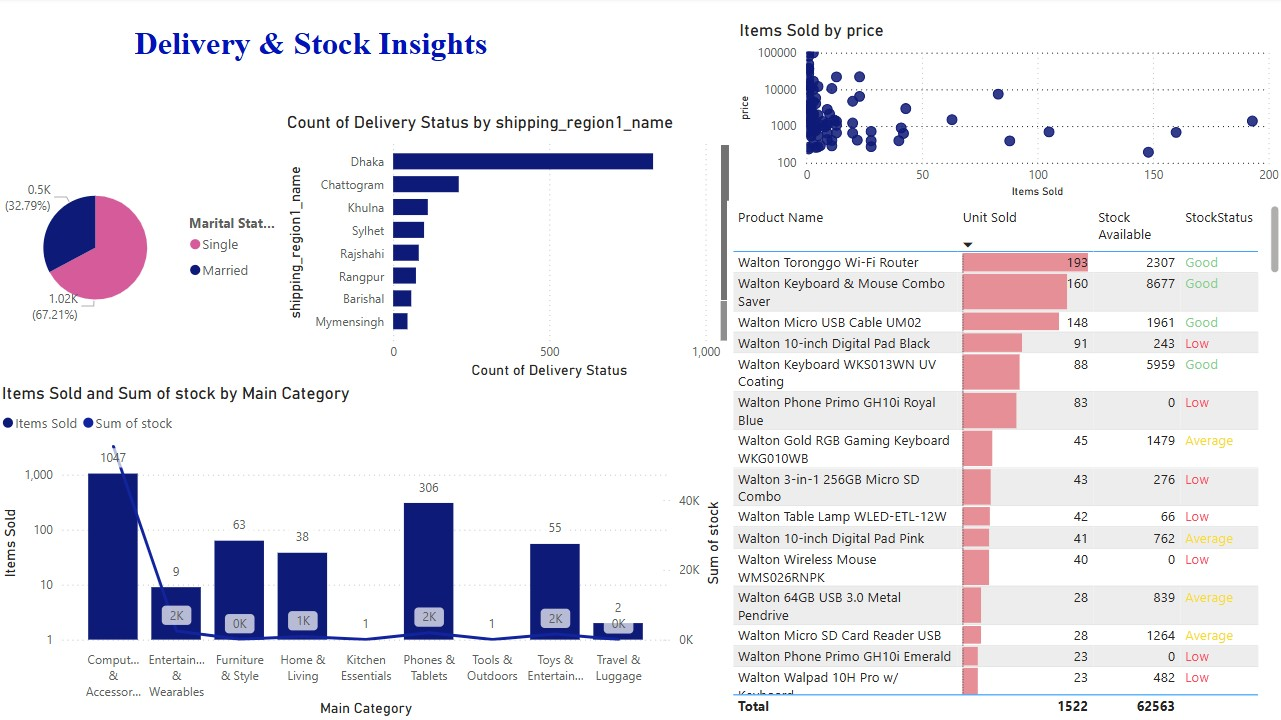

What the dashboard file says about the page in this screenshot:
{"tool":"powerbi","page":{"name":"Delivery & Stock","canvas":[1280,720],"ordinal":2},"visuals":[{"type":"barChart","fields":{"Category":["Sales.shipping_region1_name"],"Y":["CountNonNull(Sales.Delivery Status)"]},"box":[284,113.8,449.7,270.5],"z":0},{"type":"scatterChart","fields":{"X":["CountNonNull(Sales.order_item_id)"],"Y":["Product.price"]},"box":[733.8,22.5,546.7,182.6],"z":1000},{"type":"tableEx","fields":{"Values":["Product.prdouct_name","Sales.order_item_id","Product.stock","Product.StockStatus"]},"box":[725.9,202.9,554.5,517.3],"z":2000},{"type":"pieChart","fields":{"Category":["Buyers.MaritalStatus"],"Y":["CountNonNull(Buyers.buyer_id)"]},"box":[0,113.8,284,270.5],"z":3000},{"type":"lineStackedColumnComboChart","fields":{"Category":["Product.Main Category","Product.prdouct_name"],"Y2":["Sum(Product.stock)"],"Y":["CountNonNull(Sales.order_item_id)"]},"box":[0,384.3,725.9,335.9],"z":4000},{"type":"textbox","box":[131.9,22.4,385.6,53.5],"z":5000}]}

Visuals, with their boxes in screenshot pixels (x1, y1, x2, y2), scaled from the page's 1280x720 canvas onto the 1281x720 screenshot:
barChart - Sales.shipping_region1_name x CountNonNull(Sales.Delivery Status): left=284, top=114, right=734, bottom=384
scatterChart - CountNonNull(Sales.order_item_id) x Product.price: left=734, top=22, right=1280, bottom=205
tableEx - Product.prdouct_name x Sales.order_item_id: left=726, top=203, right=1280, bottom=719
pieChart - Buyers.MaritalStatus x CountNonNull(Buyers.buyer_id): left=0, top=114, right=284, bottom=384
lineStackedColumnComboChart - Product.Main Category x Product.prdouct_name: left=0, top=384, right=726, bottom=719
textbox: left=132, top=22, right=518, bottom=76
